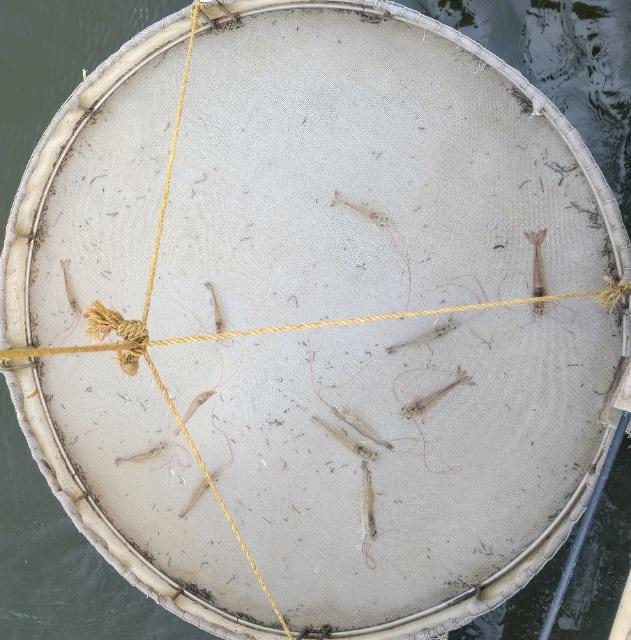shrimp: (400, 365, 477, 421), (312, 416, 377, 461), (329, 408, 393, 449), (388, 318, 460, 353), (524, 229, 547, 323), (174, 389, 216, 440), (332, 191, 391, 226), (360, 460, 376, 551), (115, 442, 173, 466), (178, 477, 209, 518), (60, 259, 80, 316), (204, 281, 225, 333)
